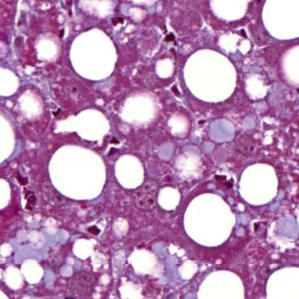steatosis: (46, 139, 106, 202), (181, 47, 236, 107), (68, 24, 120, 83)
